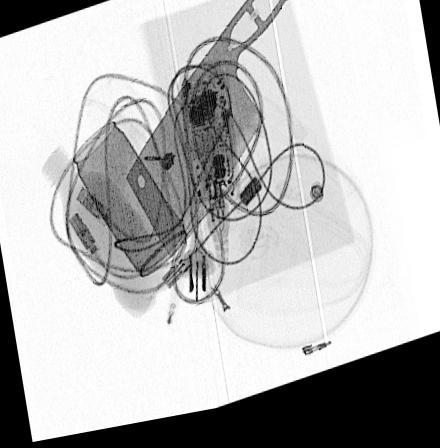Knife: (124, 0, 301, 264)
